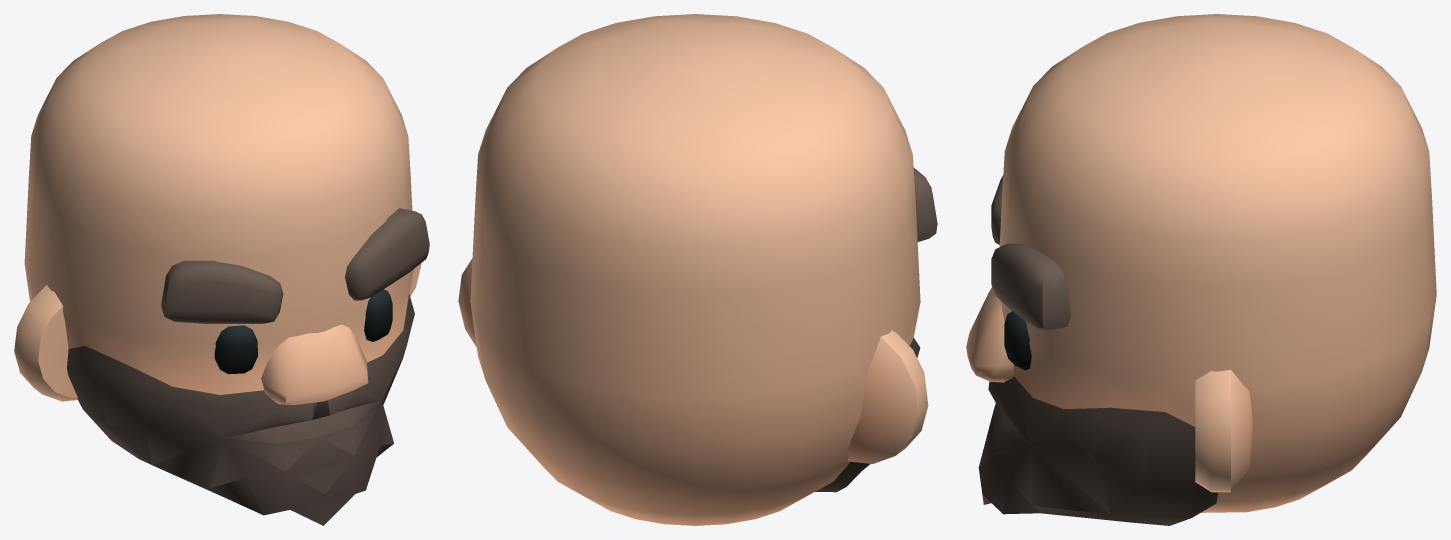
The model's file is monk_head.glb.
3 renders of one model, left to right at view 1: azimuth 30°, elevation 25°; view 2: azimuth 150°, elevation 25°; view 3: azimuth 270°, elevation 25°, orthographic. The views are drawn at different scales.
Parts seen in each view (by area): view 1: monk_head; view 2: monk_head; view 3: monk_head.
Boxes of the visible parts, left/top/right/bottom form: monk_head: left=14, top=14, right=429, bottom=525; monk_head: left=458, top=14, right=937, bottom=525; monk_head: left=966, top=14, right=1436, bottom=525.
Bounding box in the file's own units: 1.09 × 1.05 × 0.985.
Materials: 1 (1 with a texture image).
